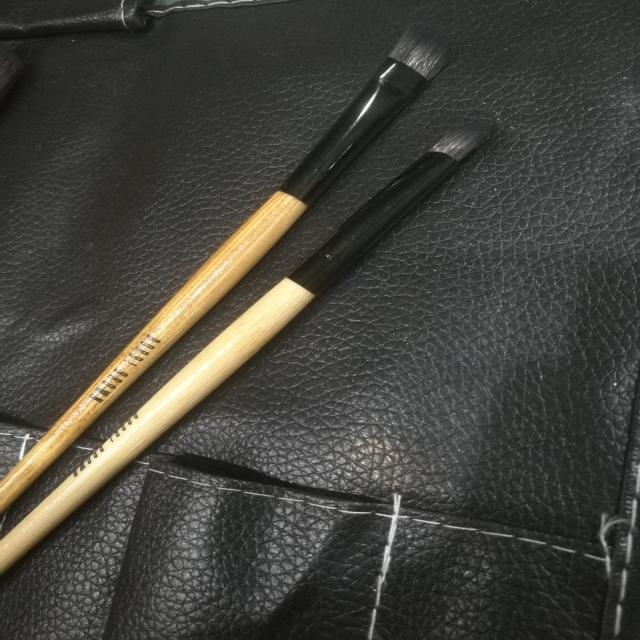brush: (0, 0, 535, 616)
